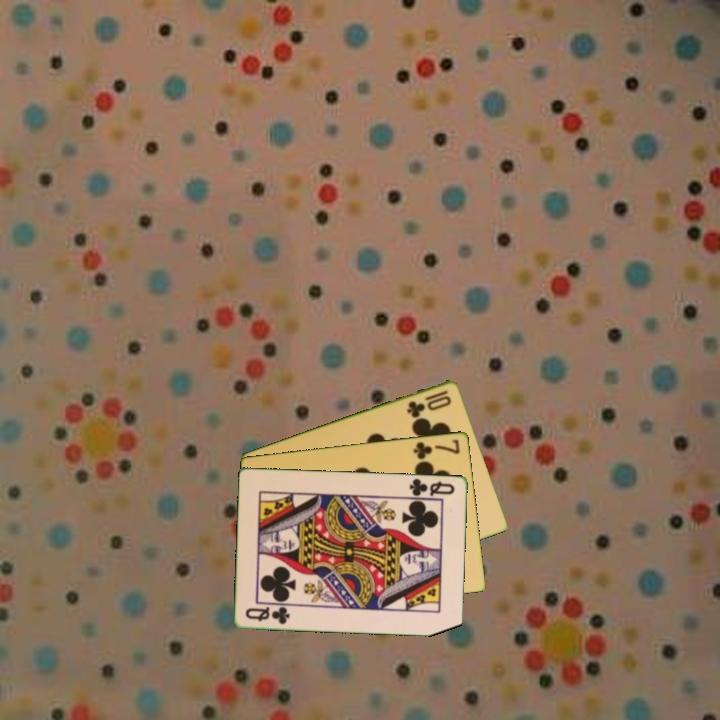10c: (403, 386, 454, 420)
7c: (410, 436, 463, 462)
Qc: (406, 475, 458, 499), (242, 603, 293, 627)
